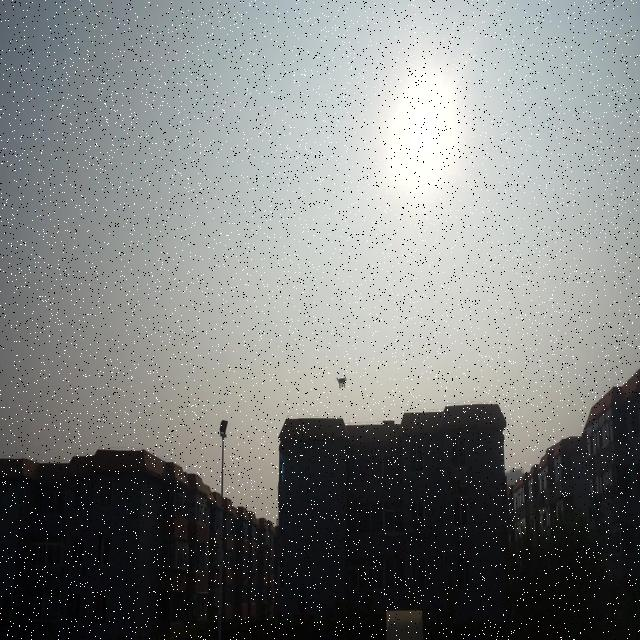UAV: (336, 374, 348, 388)
